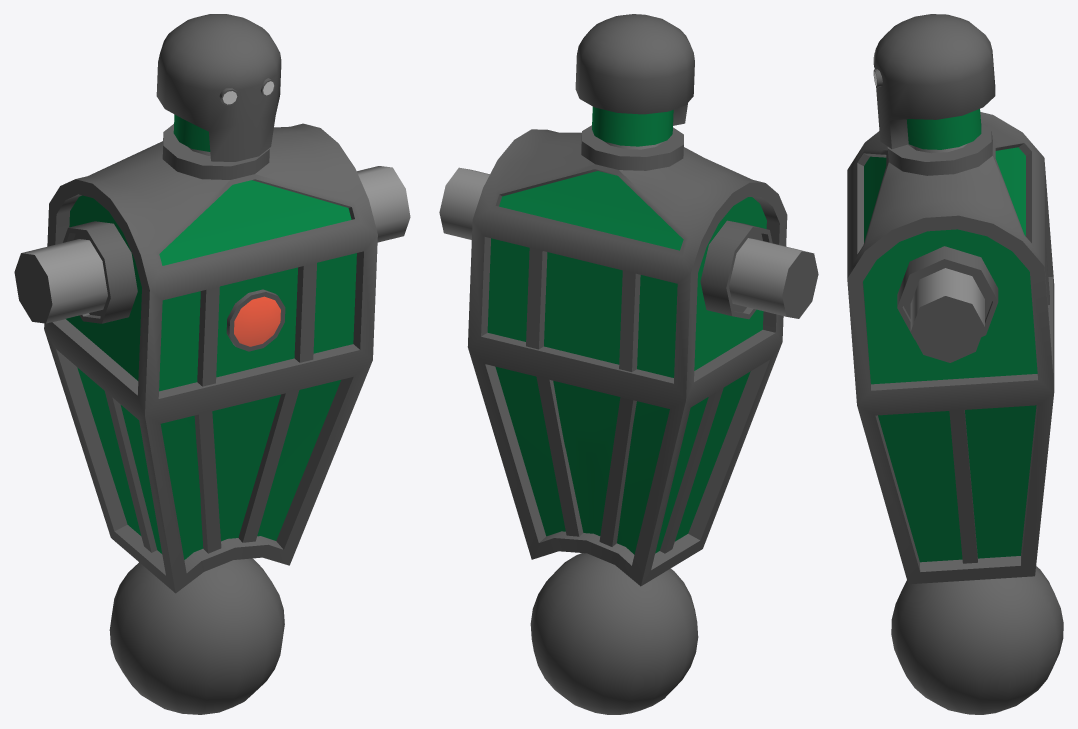
The model's file is perso_forward.fbx.
3 views of the same model, side by side, from view 1: azimuth 30°, elevation 25°; view 2: azimuth 150°, elevation 25°; view 3: azimuth 270°, elevation 25° (orthographic). The views are drawn at different scales.
Parts seen in each view (by area): view 1: body, Locomotion, head, bars; view 2: body, Locomotion, head, bars; view 3: body, Locomotion, head, bars.
Part boxes in pixels (x1,y1,x2,y2): body: (14,123,410,593); Locomotion: (109,558,284,714); head: (156,14,281,161); bars: (105,263,316,553); body: (439,125,818,586); Locomotion: (530,553,698,714); head: (575,14,694,146); bars: (526,248,723,553); body: (847,112,1054,584); Locomotion: (891,566,1063,714); head: (874,14,995,149); bars: (949,243,1049,563).
Bounding box in the file's own units: 3.18 × 5.95 × 1.7.
